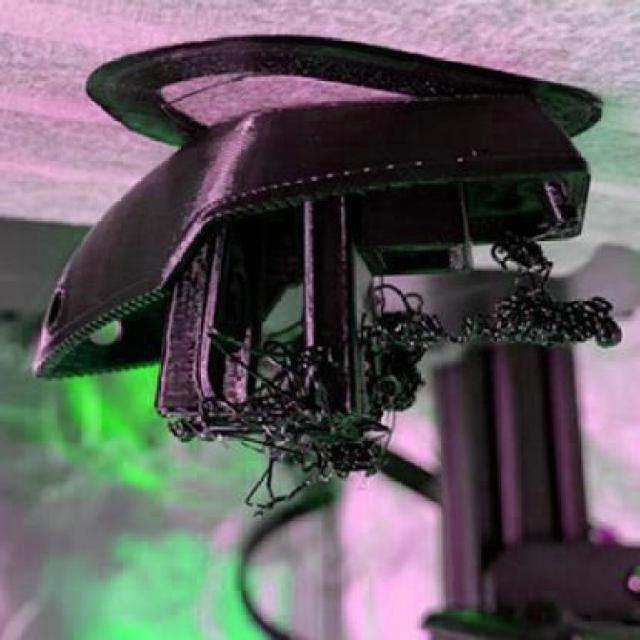Spaghetti: (170, 285, 458, 524), (458, 238, 624, 356)
